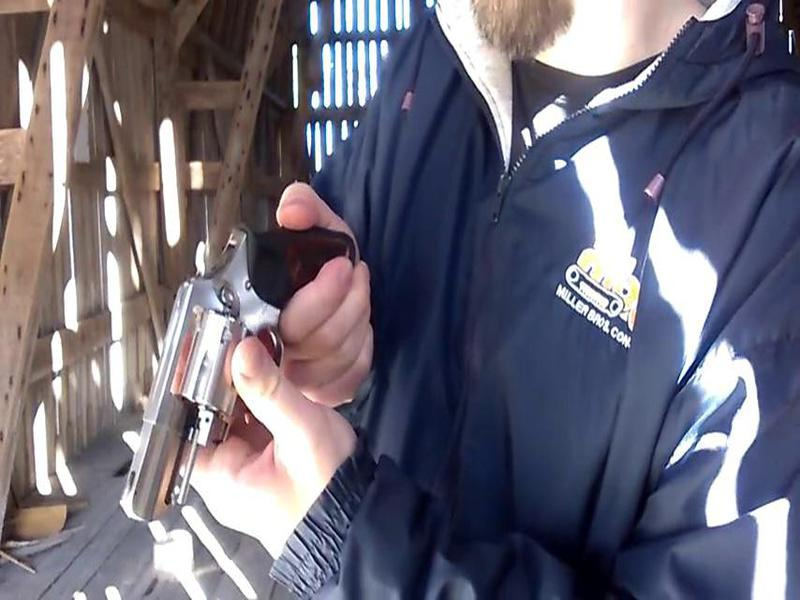Revolver: (116, 218, 291, 546)
